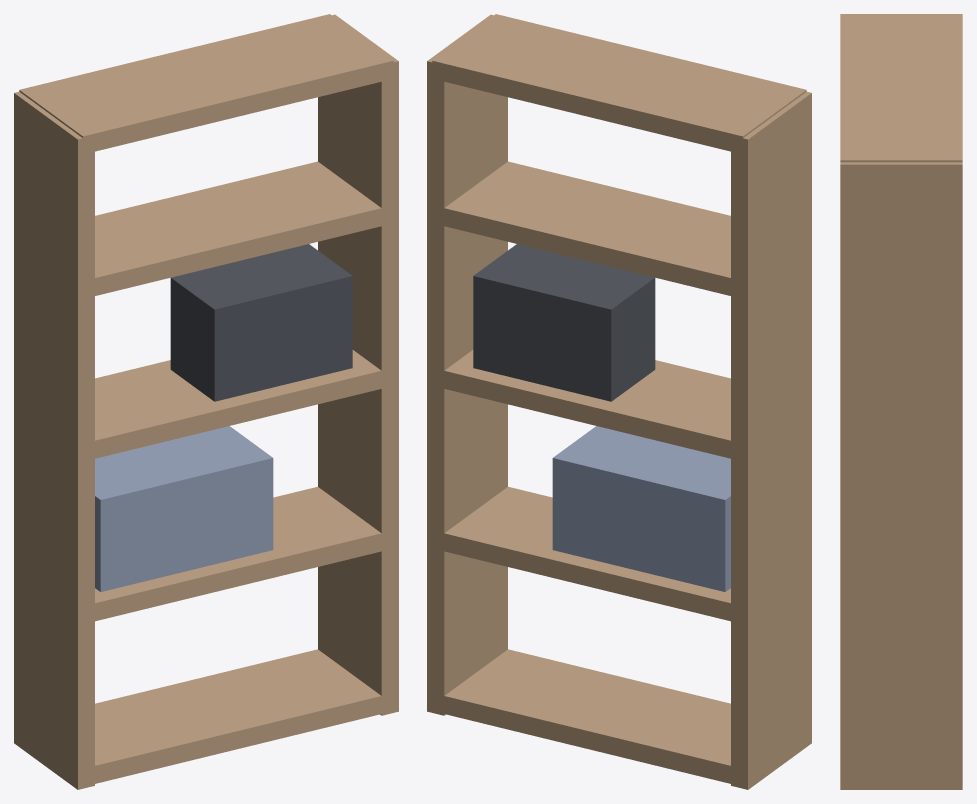
File: bookshelf.glb
The picture shows the model from 3 angles, left to right: view 1: azimuth 30°, elevation 25°; view 2: azimuth 150°, elevation 25°; view 3: azimuth 270°, elevation 25°; orthographic projection. The views are drawn at different scales.
Parts seen in each view (by area): view 1: bookshelf_Side_L, bookshelf_Side_R, bookshelf_Shelf_4, bookshelf_Books_1, bookshelf_Books_2, bookshelf_Shelf_0, bookshelf_Shelf_3, bookshelf_Shelf_2, bookshelf_Shelf_1; view 2: bookshelf_Side_L, bookshelf_Side_R, bookshelf_Shelf_4, bookshelf_Books_1, bookshelf_Books_2, bookshelf_Shelf_0, bookshelf_Shelf_3, bookshelf_Shelf_2, bookshelf_Shelf_1; view 3: bookshelf_Side_R, bookshelf_Shelf_4.
Boxes of the visible parts, x1,y1,x2,y2 form: bookshelf_Side_L: [14, 91, 94, 789]; bookshelf_Side_R: [318, 14, 398, 715]; bookshelf_Shelf_4: [19, 14, 393, 153]; bookshelf_Books_1: [95, 426, 273, 591]; bookshelf_Books_2: [170, 244, 352, 401]; bookshelf_Shelf_0: [83, 649, 393, 783]; bookshelf_Shelf_3: [83, 161, 393, 298]; bookshelf_Shelf_2: [83, 350, 393, 461]; bookshelf_Shelf_1: [83, 486, 392, 623]; bookshelf_Side_L: [731, 91, 811, 789]; bookshelf_Side_R: [427, 14, 507, 715]; bookshelf_Shelf_4: [432, 14, 806, 153]; bookshelf_Books_1: [552, 426, 730, 591]; bookshelf_Books_2: [473, 244, 655, 401]; bookshelf_Shelf_0: [432, 649, 742, 784]; bookshelf_Shelf_3: [437, 161, 742, 298]; bookshelf_Shelf_2: [432, 350, 742, 461]; bookshelf_Shelf_1: [432, 486, 742, 623]; bookshelf_Side_R: [840, 162, 962, 789]; bookshelf_Shelf_4: [840, 14, 962, 162].
Bounding box in the file's own units: 0.93 × 1.8 × 0.32.
